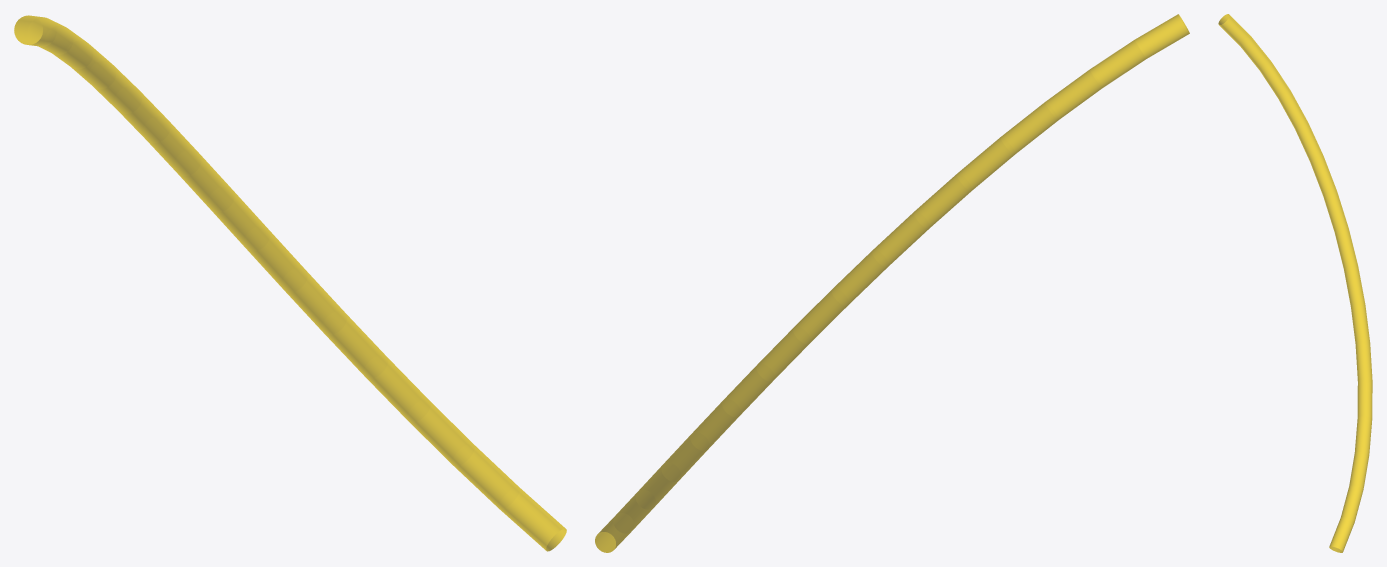
The model's file is Event_84804159_track_66.fbx.
3 views of the same model, side by side, from view 1: azimuth 30°, elevation 25°; view 2: azimuth 150°, elevation 25°; view 3: azimuth 270°, elevation 25° (orthographic). The views are drawn at different scales.
Parts seen in each view (by area): view 1: Model; view 2: Model; view 3: Model.
Boxes of the visible parts, x1,y1,x2,y2 form: Model: (14, 15, 566, 551); Model: (595, 14, 1189, 552); Model: (1218, 14, 1372, 552).
Size of the model in its own units: 1.03 by 1.14 by 0.4155.
